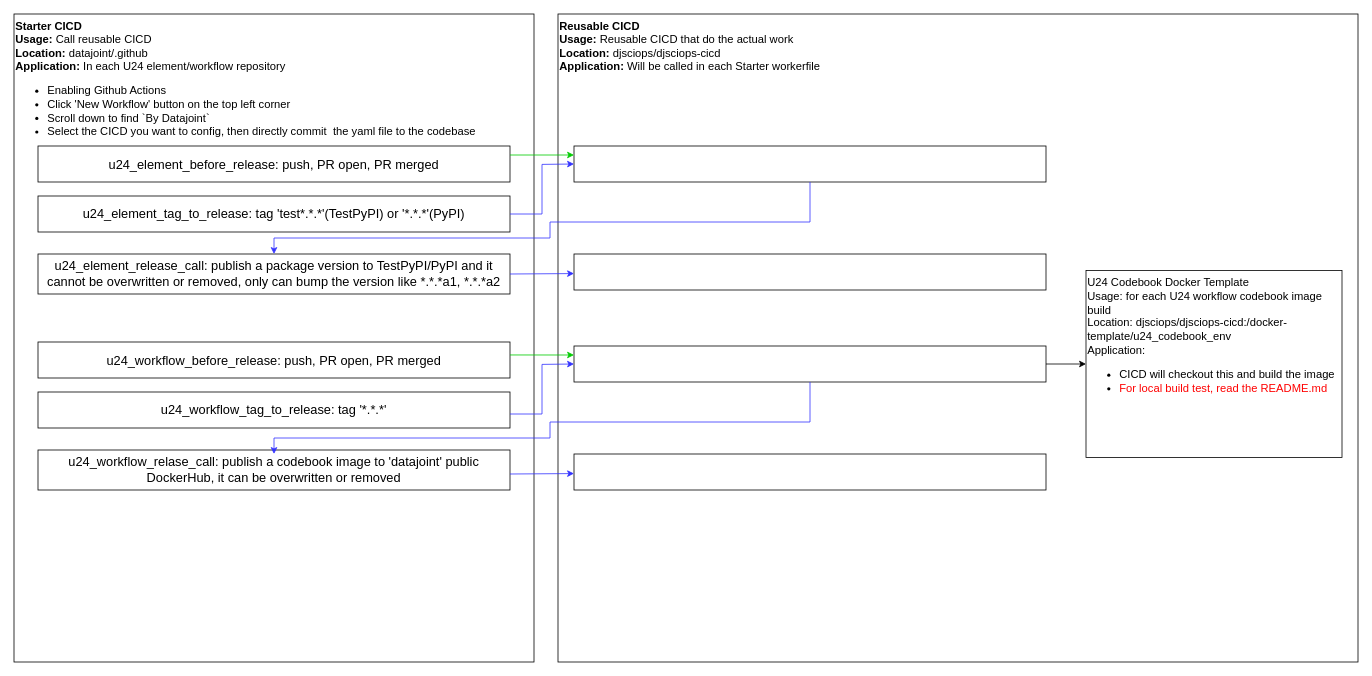
Image size: 1372x676. Some labels were removed from this diagram. Here are the shapes that lost their labels. From the top down, the box of each, then its label:
(573, 145, 1046, 182): u24_element_build
(573, 253, 1046, 290): u24_element_release
(573, 345, 1046, 382): u24_workflow_build
(573, 453, 1046, 490): u24_workflow_release
